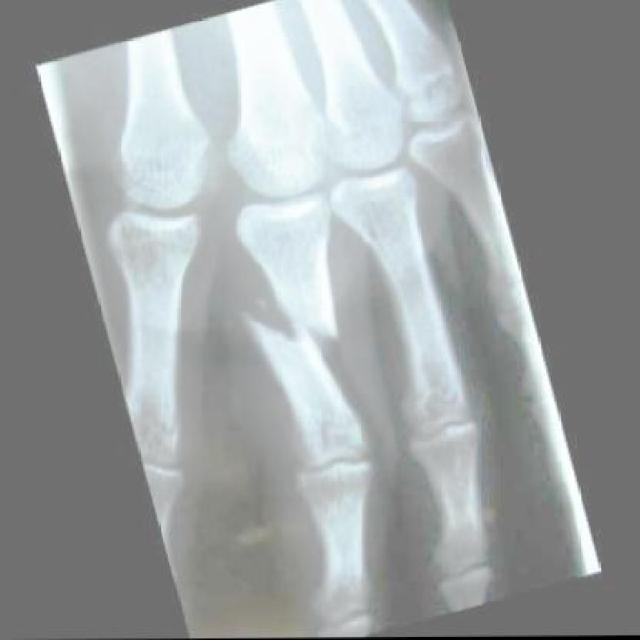Fracture: (238, 277, 360, 399)
